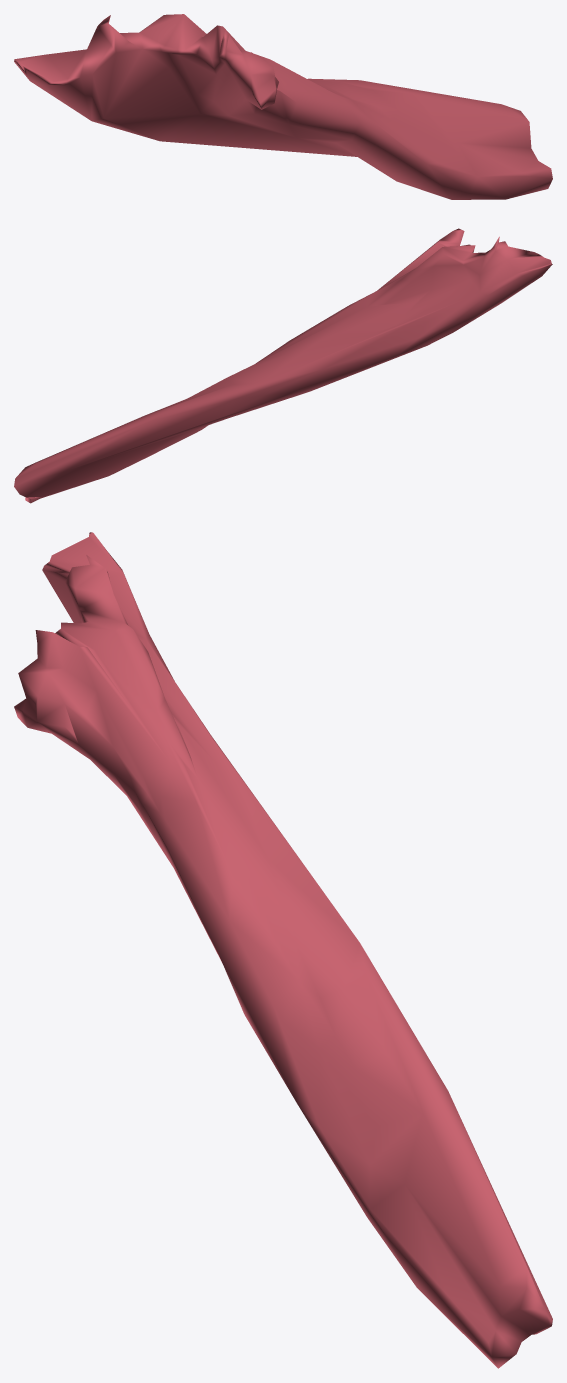
3 renders of one model, top to bottom at view 1: azimuth 30°, elevation 25°; view 2: azimuth 150°, elevation 25°; view 3: azimuth 270°, elevation 25°, orthographic. The views are drawn at different scales.
Visible parts, largest first — view 1: 左侧拇对掌肌; view 2: 左侧拇对掌肌; view 3: 左侧拇对掌肌.
Part boxes in pixels (left/top/right/bottom): 左侧拇对掌肌: left=14, top=14, right=552, bottom=199; 左侧拇对掌肌: left=14, top=228, right=552, bottom=503; 左侧拇对掌肌: left=14, top=532, right=552, bottom=1368.
Size of the model in its own units: 0.0682 by 0.0422 by 0.0419.
